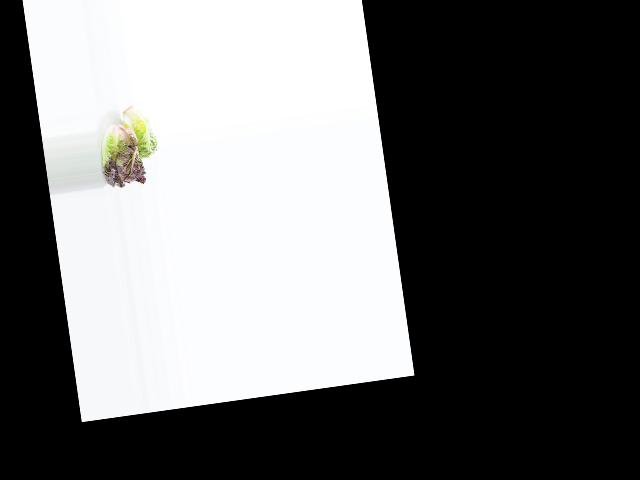lettuce: (119, 101, 159, 161)
